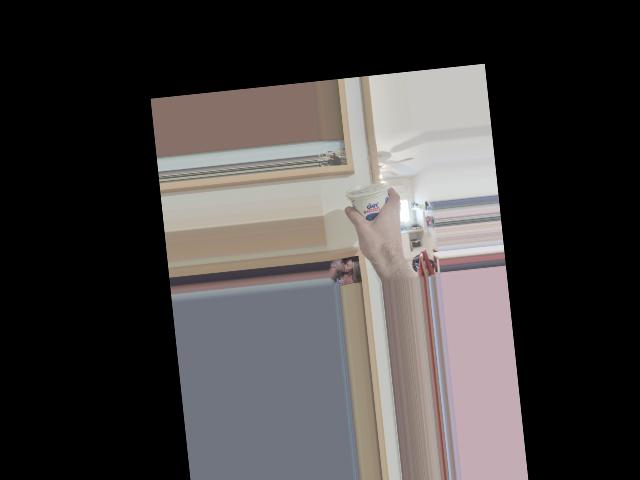cotage: (346, 178, 397, 232)
